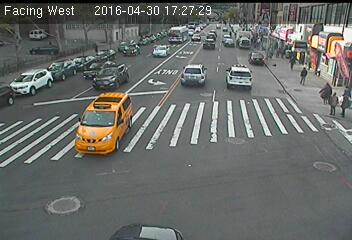neg: (229, 144, 261, 187), (45, 168, 76, 209), (146, 165, 175, 204), (141, 61, 170, 99), (35, 63, 62, 98), (180, 68, 204, 101), (32, 128, 54, 158), (92, 91, 114, 120), (295, 159, 315, 186), (91, 58, 106, 78)
pos: (291, 58, 311, 85), (326, 93, 342, 114), (320, 80, 335, 100)
